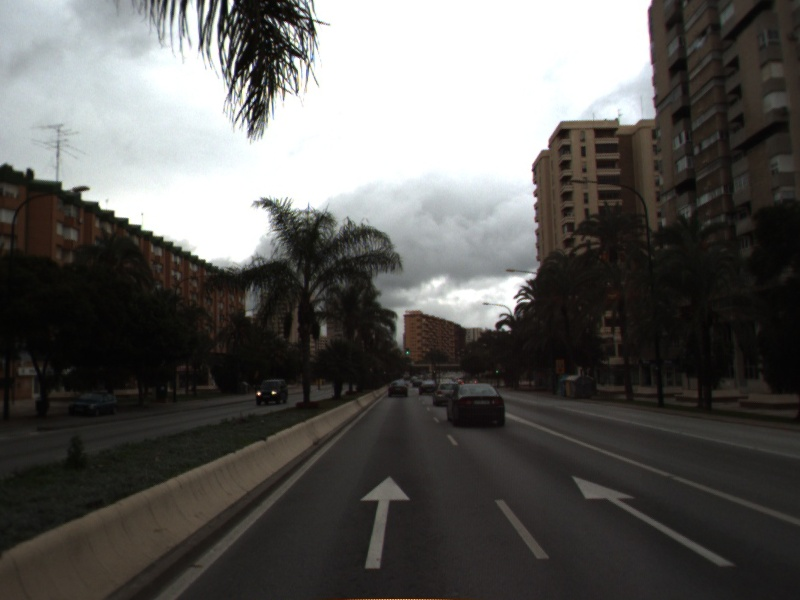STRAIGHT: (569, 474, 740, 569), (357, 473, 413, 571)
